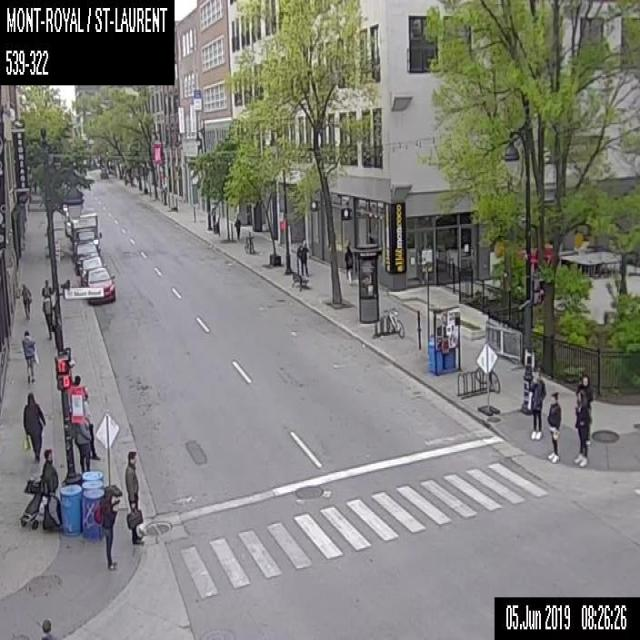pedestrian: (20, 448, 59, 525), (95, 484, 123, 572), (122, 450, 142, 542), (21, 391, 44, 458), (573, 391, 592, 465), (75, 412, 98, 472), (528, 368, 546, 441), (547, 391, 561, 464), (22, 329, 35, 382), (71, 373, 90, 404), (41, 295, 52, 337), (296, 240, 308, 277), (38, 617, 58, 639), (342, 244, 352, 287), (573, 374, 594, 394), (19, 281, 30, 319), (40, 277, 54, 295), (233, 212, 240, 240)
vehicle: (84, 265, 116, 304), (70, 212, 102, 250), (74, 241, 96, 265)
